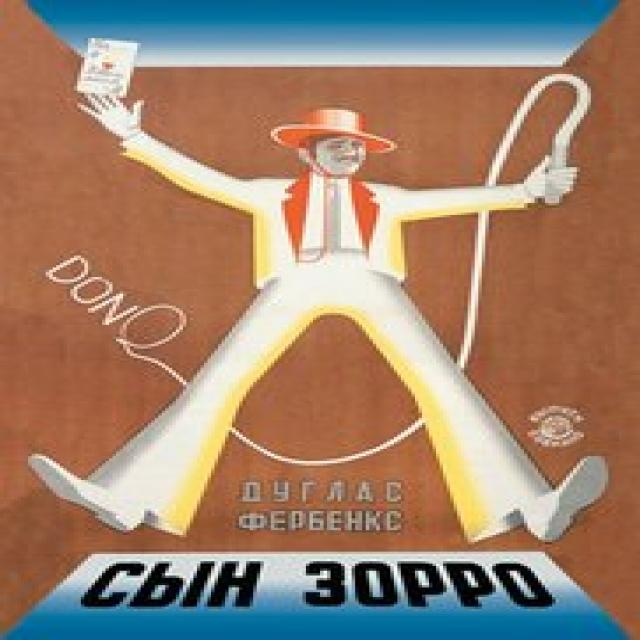movie-judul: (90, 553, 562, 625), (224, 468, 434, 545)
picture: (28, 18, 640, 558)
